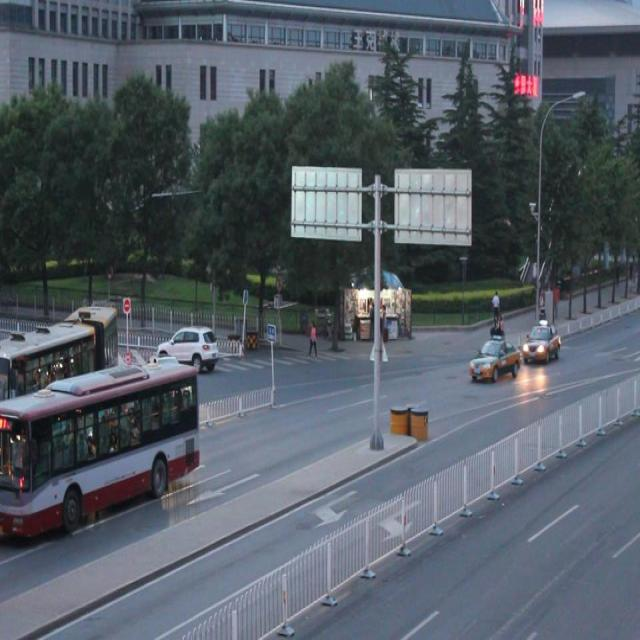car: (157, 326, 218, 370), (468, 336, 520, 385), (133, 345, 181, 393), (521, 320, 560, 364)
van: (0, 360, 196, 540), (1, 307, 118, 412)
